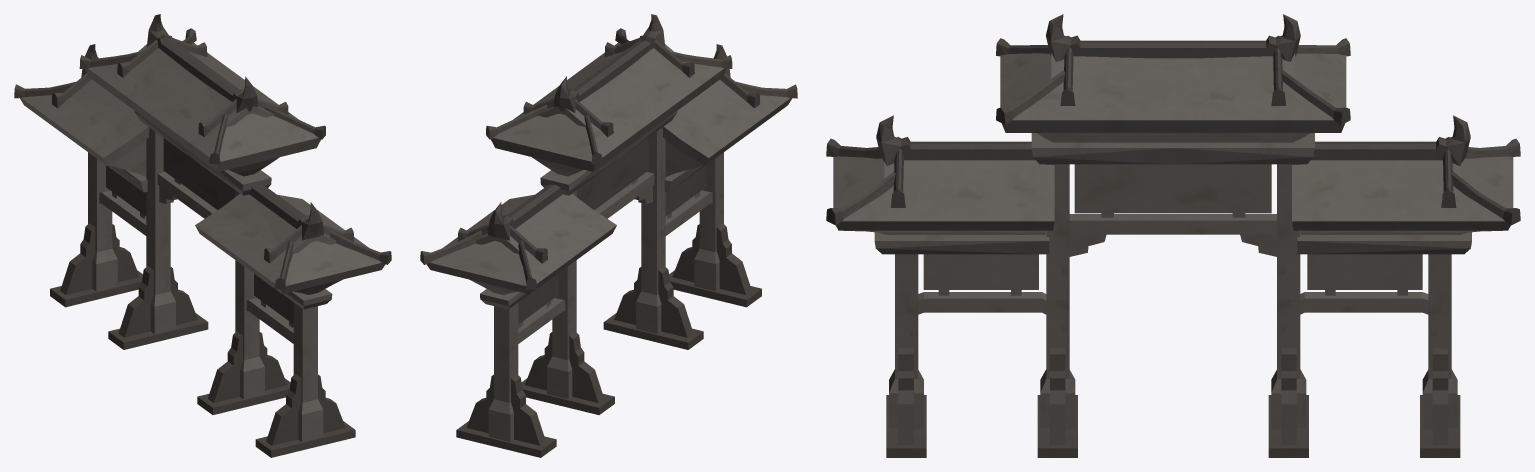
Rendered from PaiFang01.fbx.
3 views of the same model, side by side, from view 1: azimuth 30°, elevation 25°; view 2: azimuth 150°, elevation 25°; view 3: azimuth 270°, elevation 25° (orthographic). The views are drawn at different scales.
Visible parts, largest first — view 1: 4_PaiFang01; view 2: 4_PaiFang01; view 3: 4_PaiFang01.
Boxes of the visible parts, <box> form: 4_PaiFang01: <box>14,14,391,457</box>; 4_PaiFang01: <box>420,14,797,457</box>; 4_PaiFang01: <box>826,14,1520,457</box>.
Size of the model in its own units: 164 by 431 by 650.
